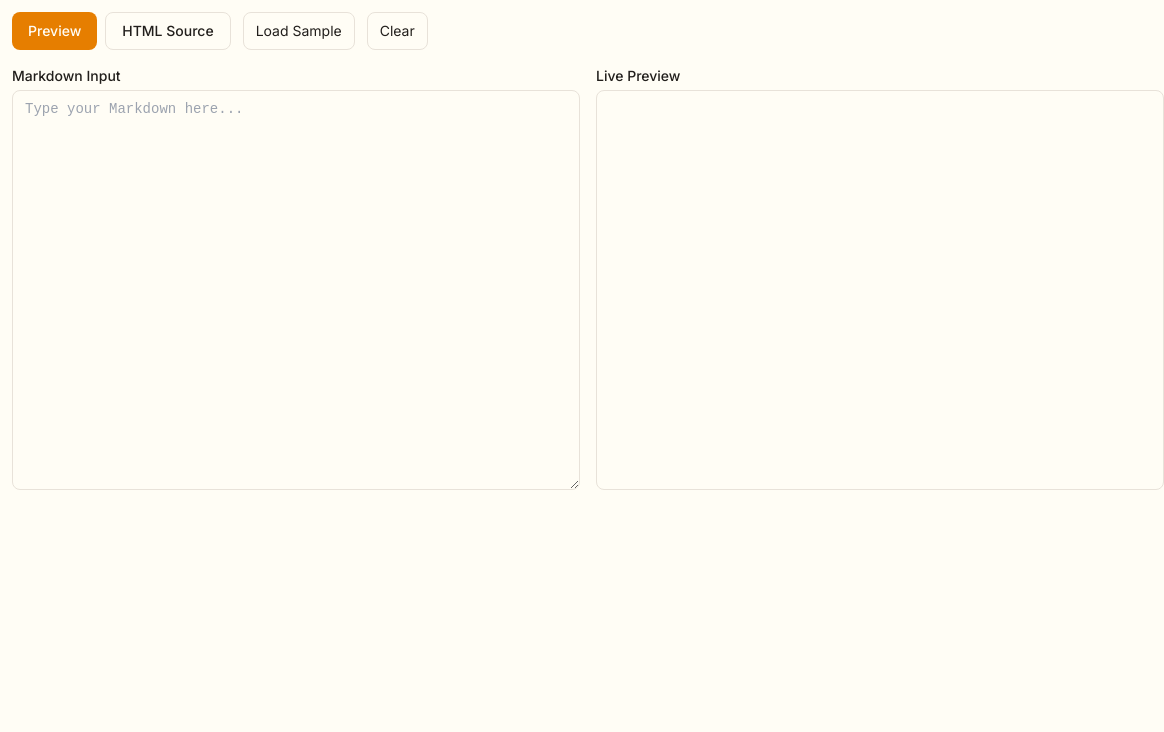
Test case: MarkdownToHtml › shows character counts when input is provided
The width and height of the screenshot is (1164, 732).
Type "# Hello" into the text box with placeholder "Type your Markdown here...".
click(296, 290); type("# Hello")  # box [12, 90, 580, 490]
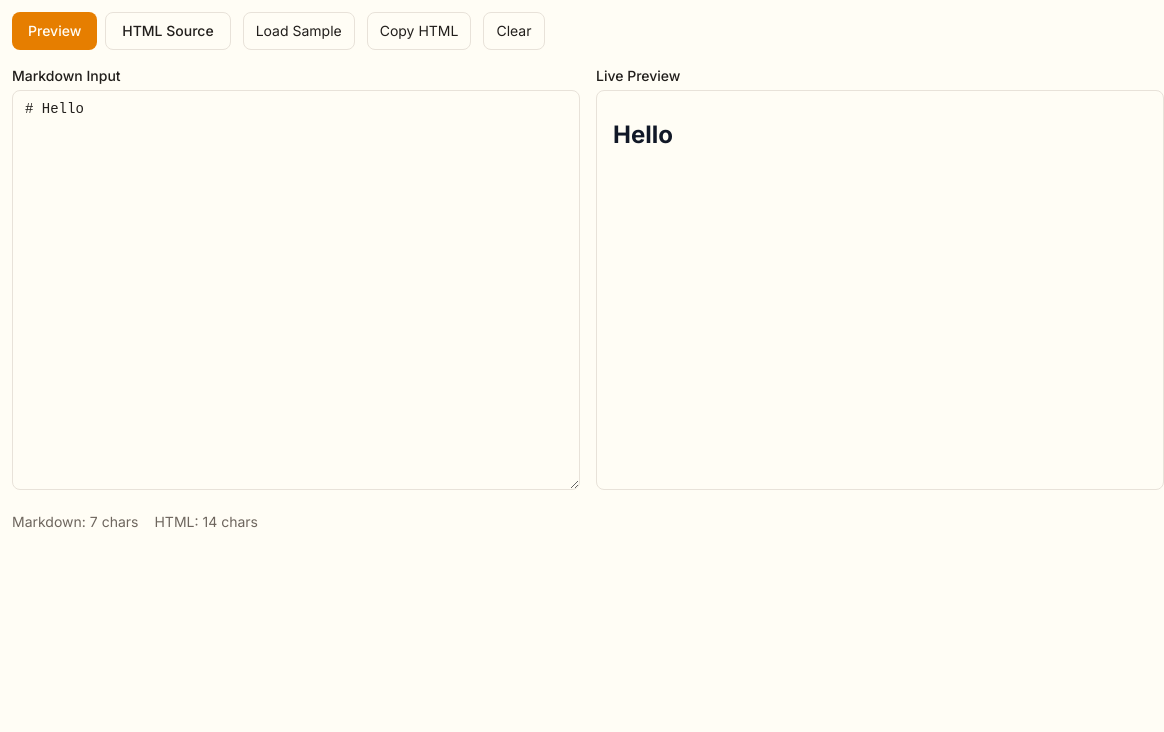
Expected: the text "Markdown: 7 chars" is shown, [12, 512, 138, 532]
Expected: the text "HTML: 14 chars" is shown, [154, 512, 258, 532]
